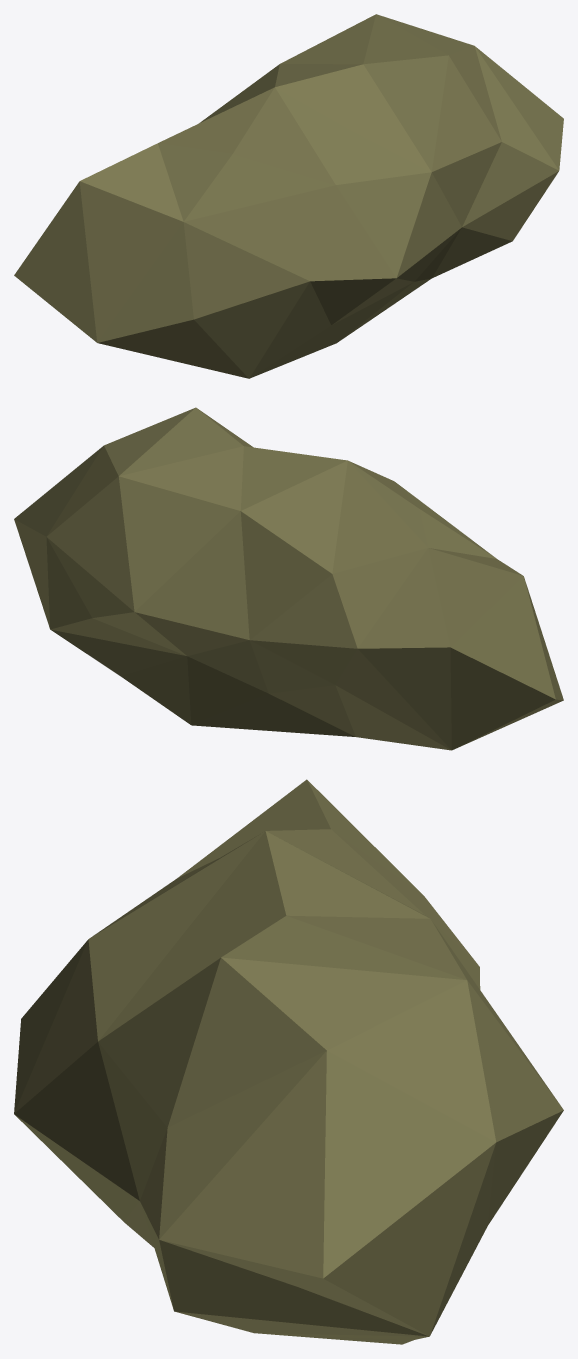
Rendered from Stein_001.gltf.
3 views of the same model, one above another, from view 1: azimuth 30°, elevation 25°; view 2: azimuth 150°, elevation 25°; view 3: azimuth 270°, elevation 25° (orthographic). The views are drawn at different scales.
Parts seen in each view (by area): view 1: Stein.001-col; view 2: Stein.001-col; view 3: Stein.001-col.
Part boxes in pixels (x1,y1,x2,y2): Stein.001-col: (14, 14, 563, 378); Stein.001-col: (14, 407, 563, 750); Stein.001-col: (14, 779, 563, 1344).
Size of the model in its own units: 4.69 by 2.14 by 2.49.
